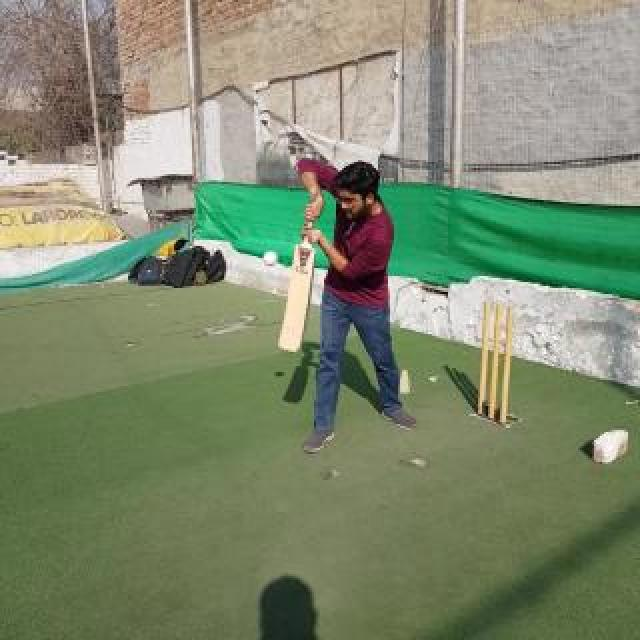ball: (262, 250, 278, 266)
bat: (278, 186, 318, 354)
